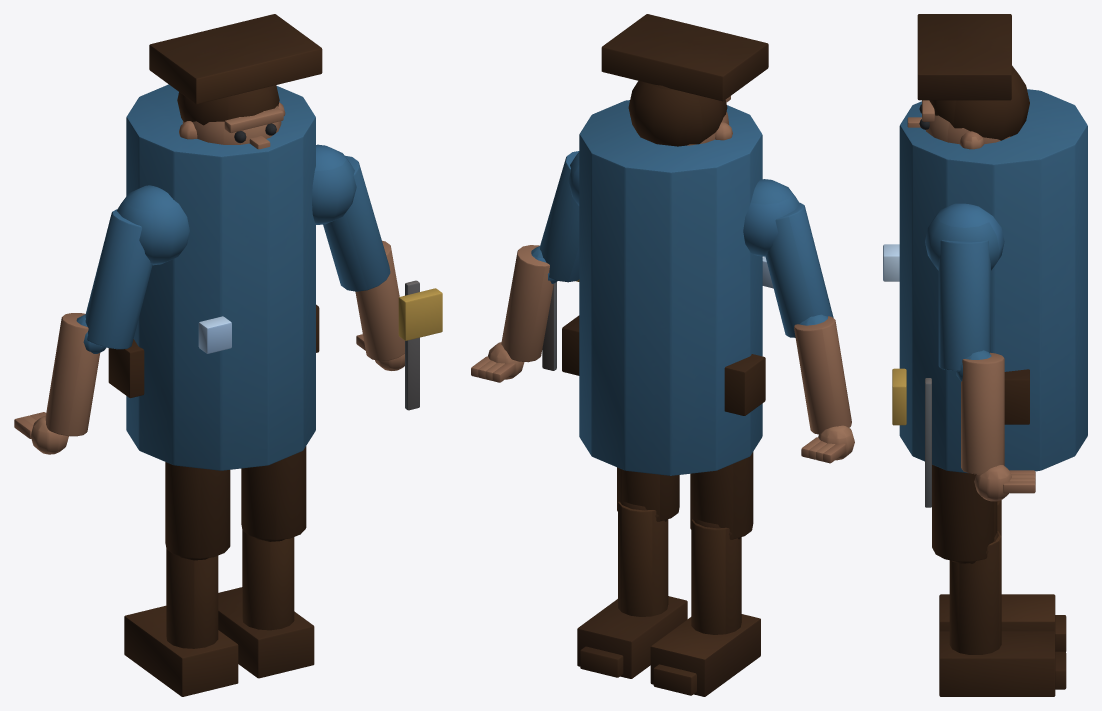
File: unit_freetown_fence.fbx
3 renders of one model, left to right at view 1: azimuth 30°, elevation 25°; view 2: azimuth 150°, elevation 25°; view 3: azimuth 270°, elevation 25°, orthographic. The views are drawn at different scales.
Parts seen in each view (by area): view 1: unit_freetown_fence; view 2: unit_freetown_fence; view 3: unit_freetown_fence.
Part boxes in pixels (x1,y1,x2,y2): unit_freetown_fence: (14, 14, 442, 696); unit_freetown_fence: (471, 14, 854, 696); unit_freetown_fence: (883, 14, 1087, 696).
Bounding box in the file's own units: 1.18 × 1.89 × 0.5643.
